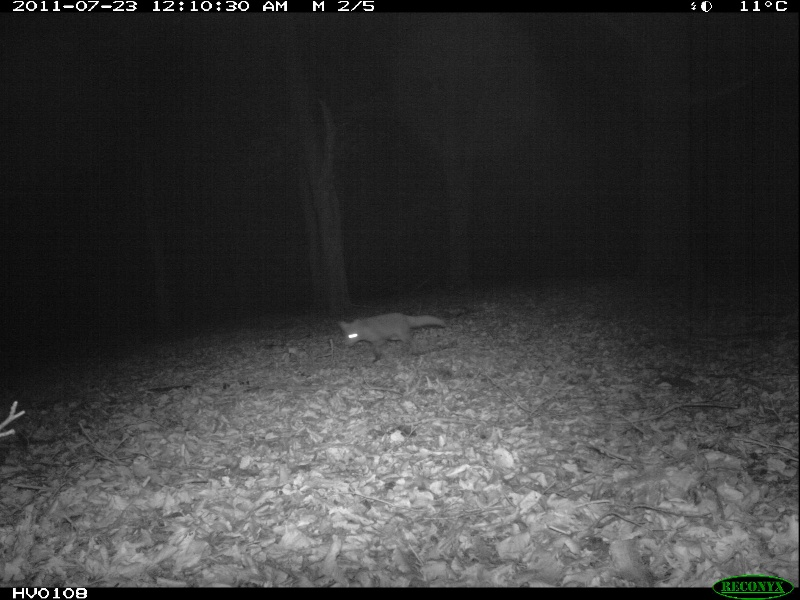fox: (337, 311, 451, 358)
